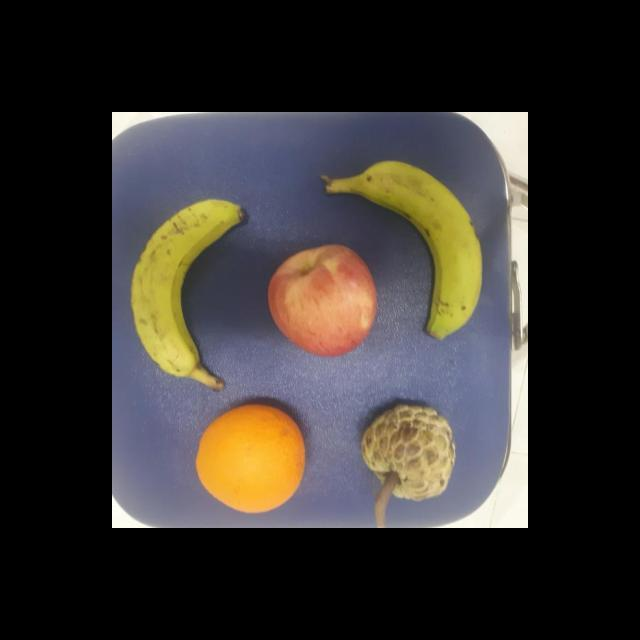Sakya fruit: (353, 404, 459, 508)
apple: (264, 242, 379, 361)
banana: (318, 158, 484, 342), (126, 198, 250, 392)
orange: (192, 403, 308, 518)
